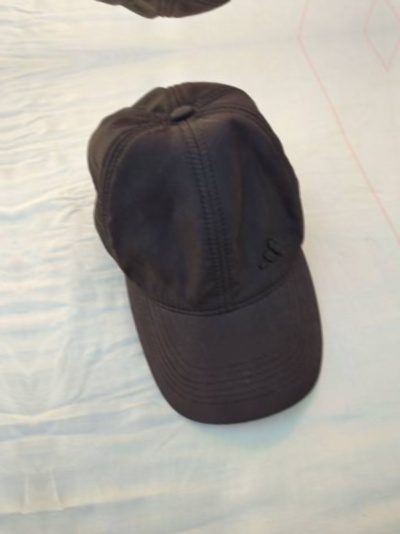Hat: (53, 46, 358, 429), (14, 0, 319, 53)
